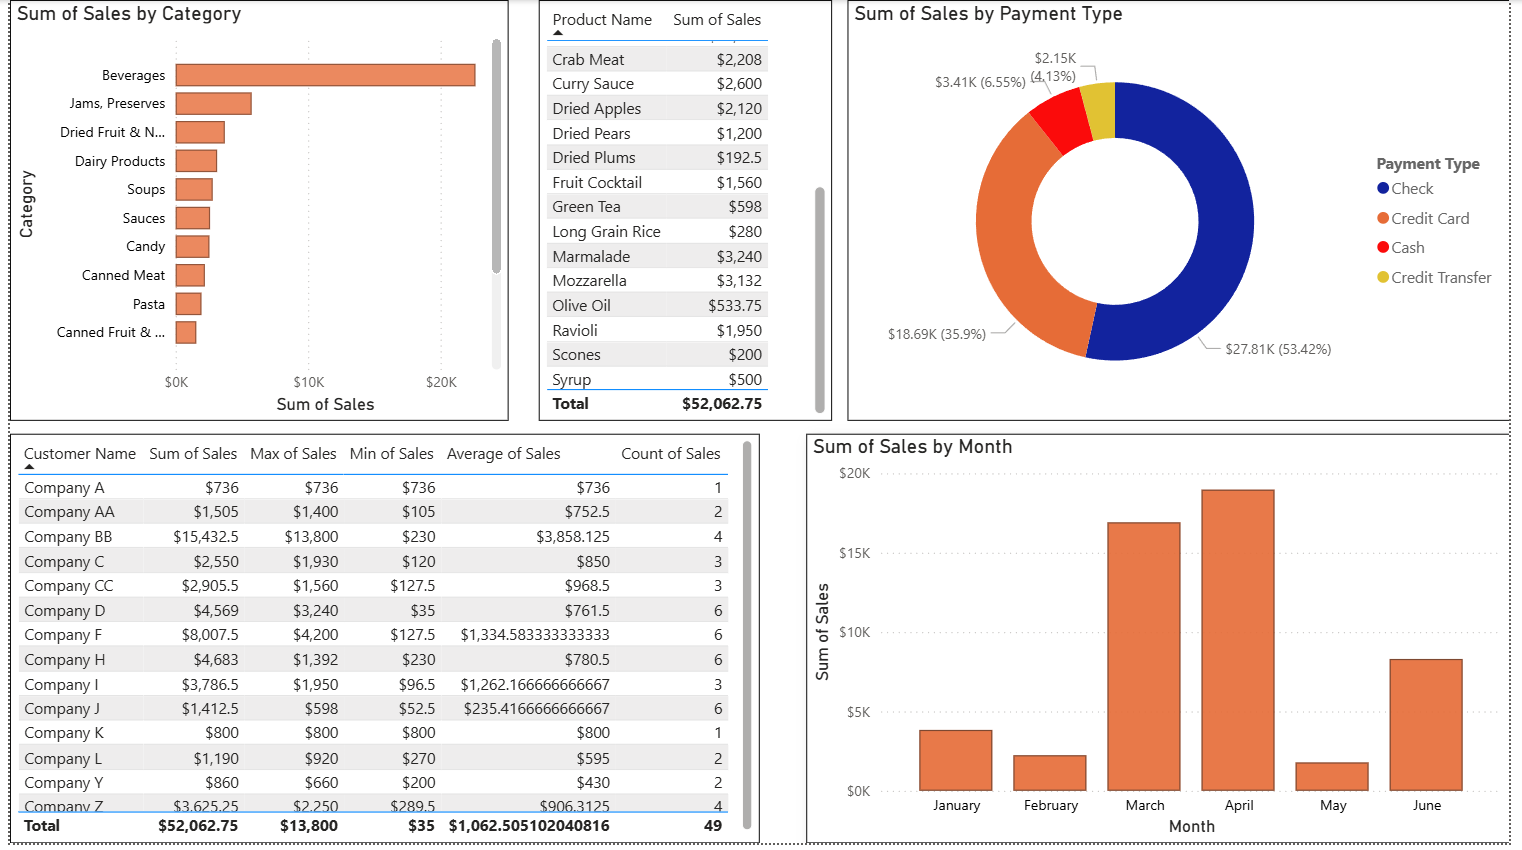

This screenshot's page, from the dashboard's own definition file:
{"tool":"powerbi","page":{"name":"Page 1","canvas":[1280,720],"ordinal":0},"visuals":[{"type":"tableEx","fields":{"Values":["tbl_Sales.Customer Name","Sum(tbl_Sales.Sales)"]},"box":[0,440.5,279.9,279.9],"z":0},{"type":"tableEx","fields":{"Values":["tbl_Sales.Customer Name","Sum(tbl_Sales.Sales)","Max(tbl_Sales.Sales)","Min(tbl_Sales.Sales)","Avg(tbl_Sales.Sales)","CountNonNull(tbl_Sales.Sales)"]},"box":[0,370.2,640.2,350],"z":1000},{"type":"clusteredColumnChart","fields":{"Category":["tbl_Sales.Order Date.Variation.Date Hierarchy.Month"],"Y":["Sum(tbl_Sales.Sales)"]},"box":[679.7,370.2,600.7,350],"z":2000},{"type":"barChart","fields":{"Category":["tbl_Sales.Category"],"Y":["Sum(tbl_Sales.Sales)"]},"box":[0,0,425.7,359.6],"z":3000},{"type":"tableEx","fields":{"Values":["tbl_Sales.Product Name","Sum(tbl_Sales.Sales)"]},"box":[451.3,0,250.7,359.6],"z":4000},{"type":"donutChart","fields":{"Category":["tbl_Sales.Payment Type"],"Y":["Sum(tbl_Sales.Sales)"]},"box":[714.9,0,565.5,359.6],"z":4001}]}

Visuals, with their boxes in screenshot pixels (x1, y1, x2, y2), scaled from the page's 1280x720 canvas onto the 1522x850 screenshot:
tableEx - tbl_Sales.Customer Name x Sum(tbl_Sales.Sales): x1=0, y1=520, x2=333, y2=849
tableEx - tbl_Sales.Customer Name x Sum(tbl_Sales.Sales): x1=0, y1=437, x2=761, y2=849
clusteredColumnChart - tbl_Sales.Order Date.Variation.Date Hierarchy.Month x Sum(tbl_Sales.Sales): x1=808, y1=437, x2=1521, y2=849
barChart - tbl_Sales.Category x Sum(tbl_Sales.Sales): x1=0, y1=0, x2=506, y2=425
tableEx - tbl_Sales.Product Name x Sum(tbl_Sales.Sales): x1=537, y1=0, x2=835, y2=425
donutChart - tbl_Sales.Payment Type x Sum(tbl_Sales.Sales): x1=850, y1=0, x2=1521, y2=425
